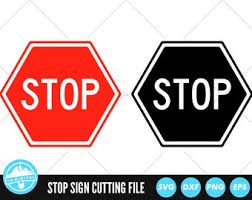SS: (8, 40, 120, 151)
